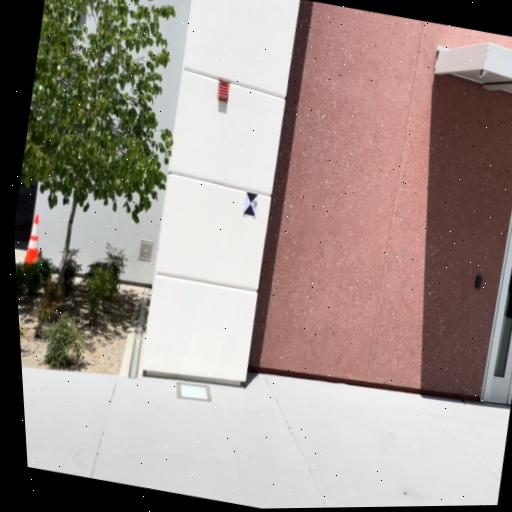target9: (243, 191, 259, 217)
